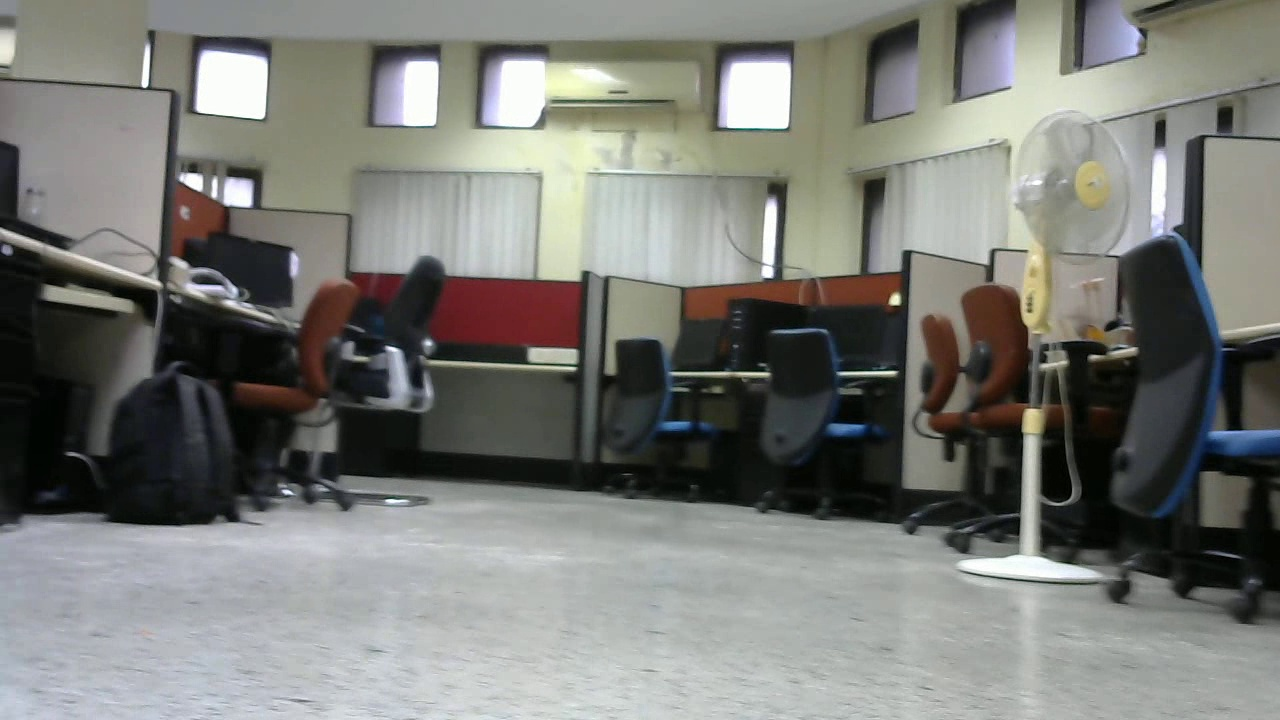chair: (1086, 234, 1280, 620), (911, 282, 1085, 555), (299, 255, 449, 504), (202, 270, 353, 503), (751, 326, 888, 527), (593, 335, 739, 512)
